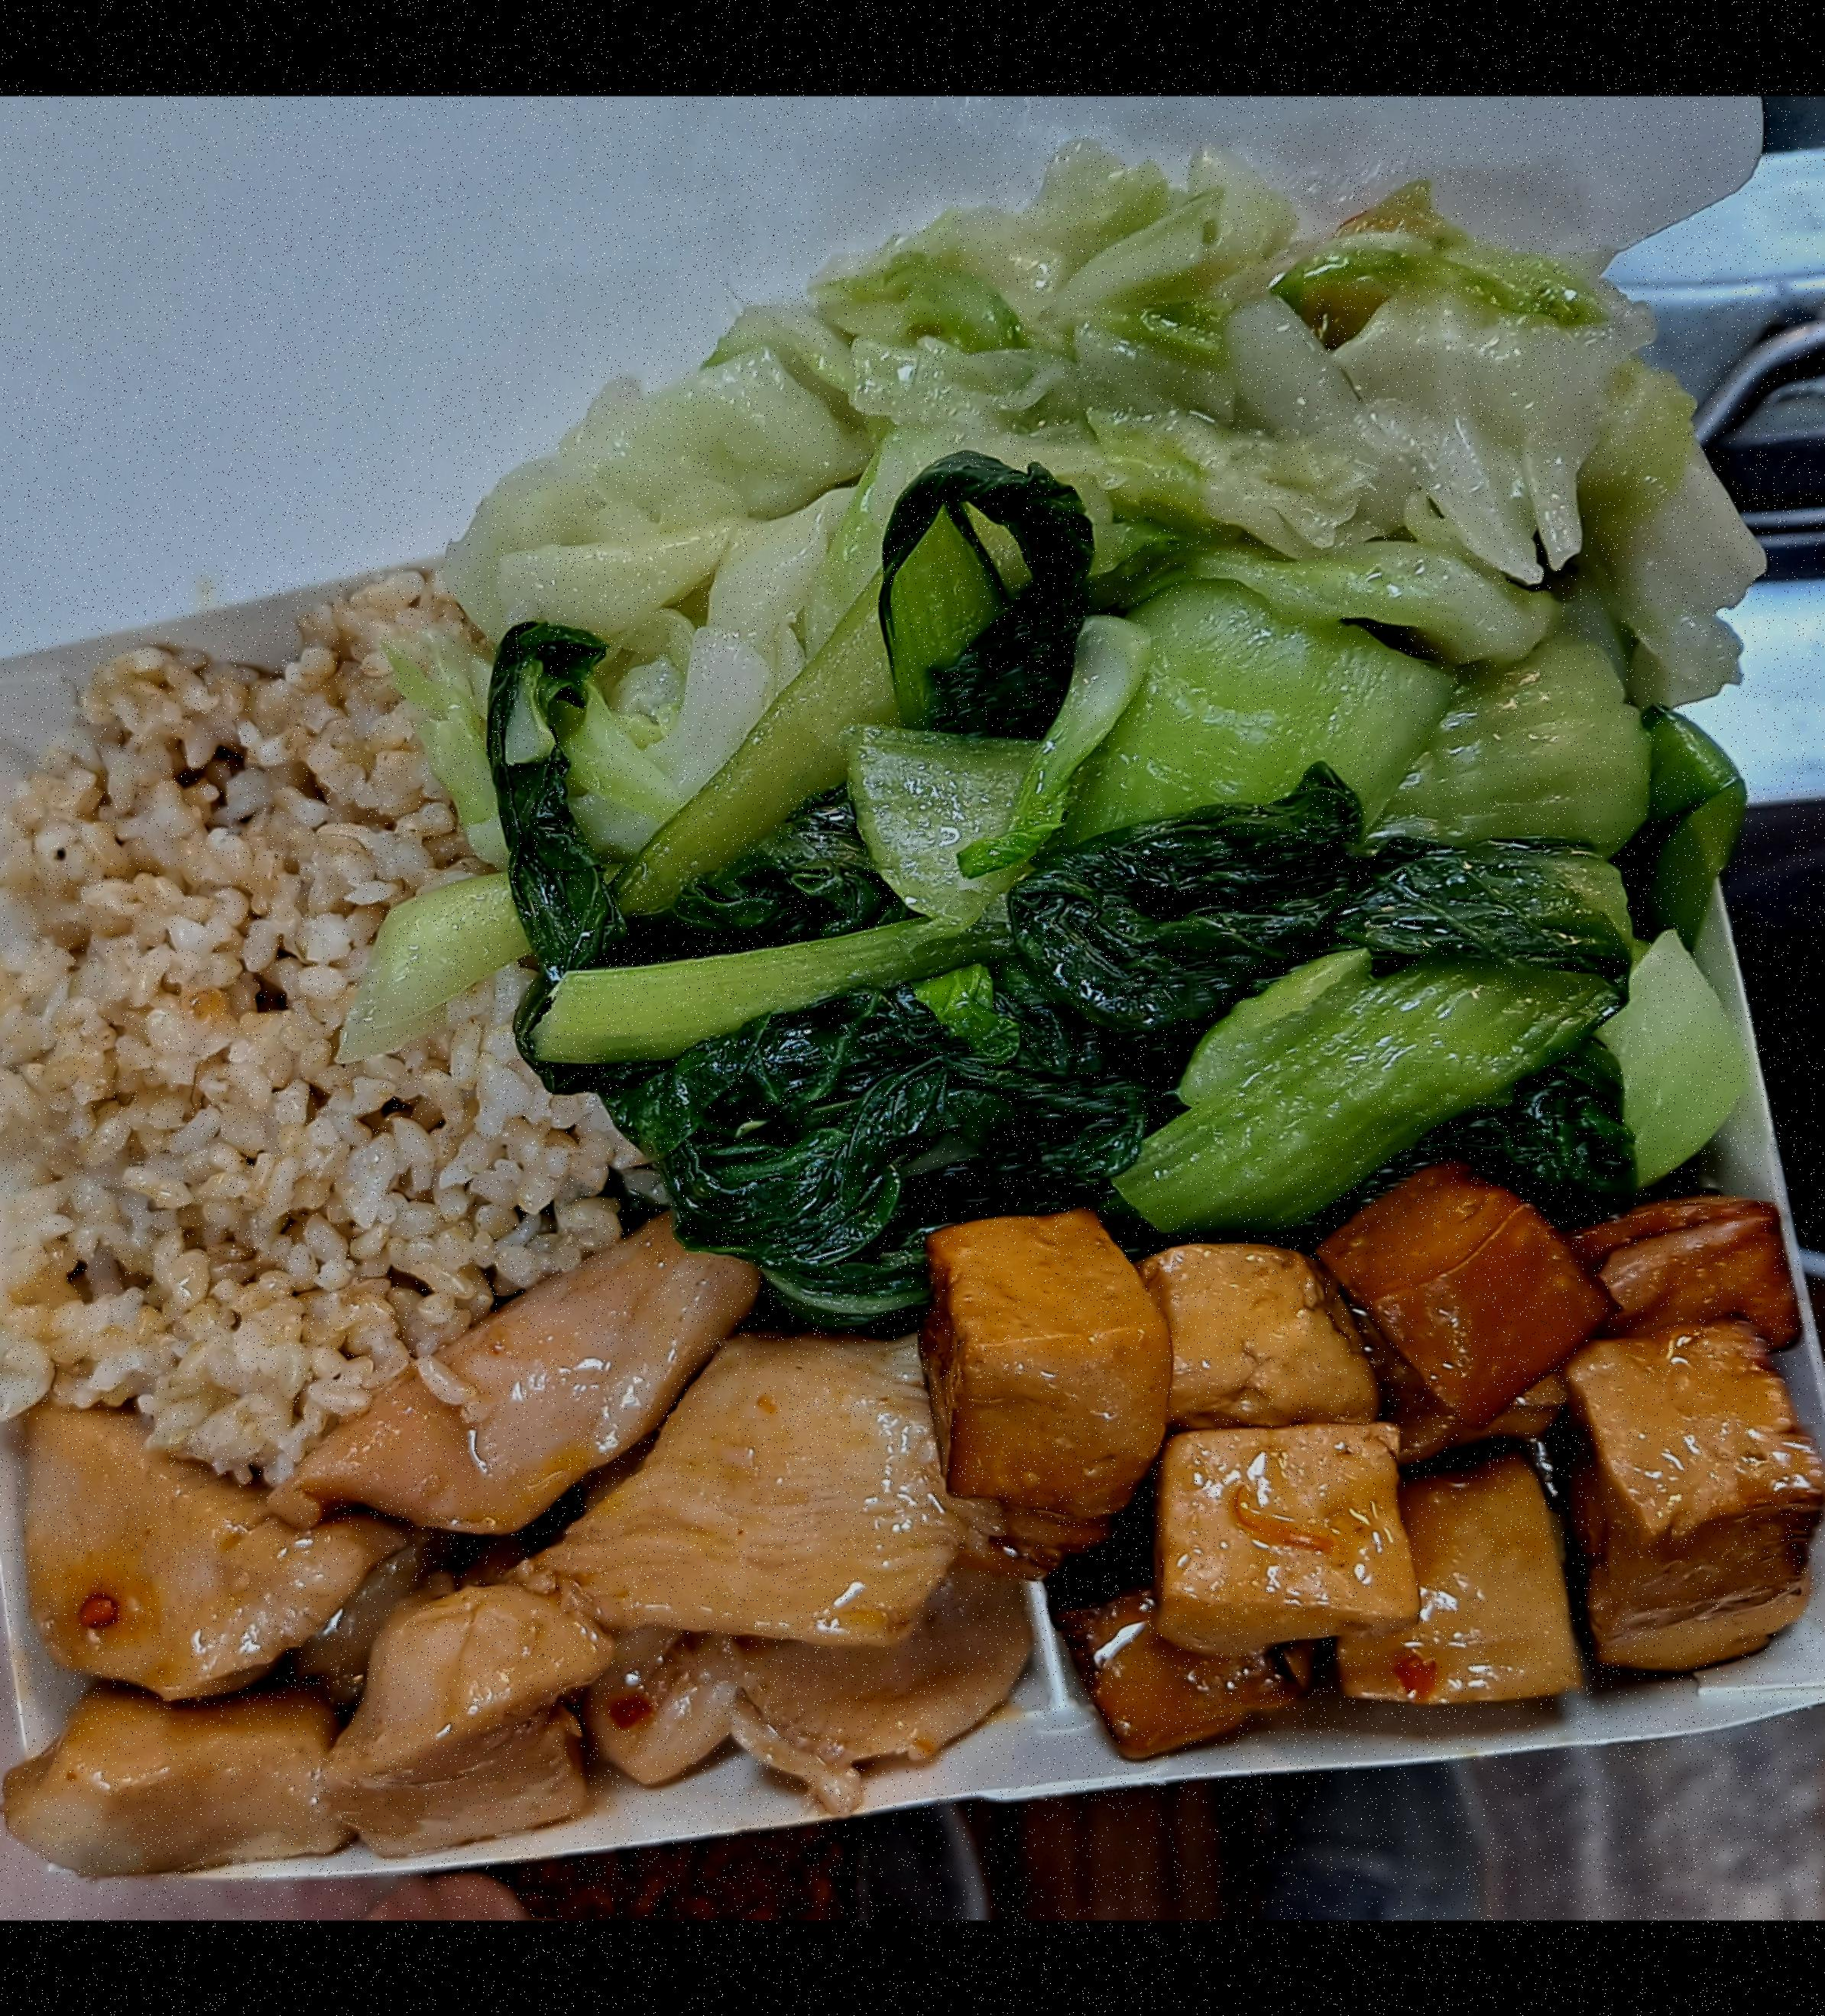brown rice: (0, 1163, 569, 1990)
side dish: (448, 1156, 1714, 1800), (406, 701, 1693, 1243), (861, 1724, 1818, 2016)
